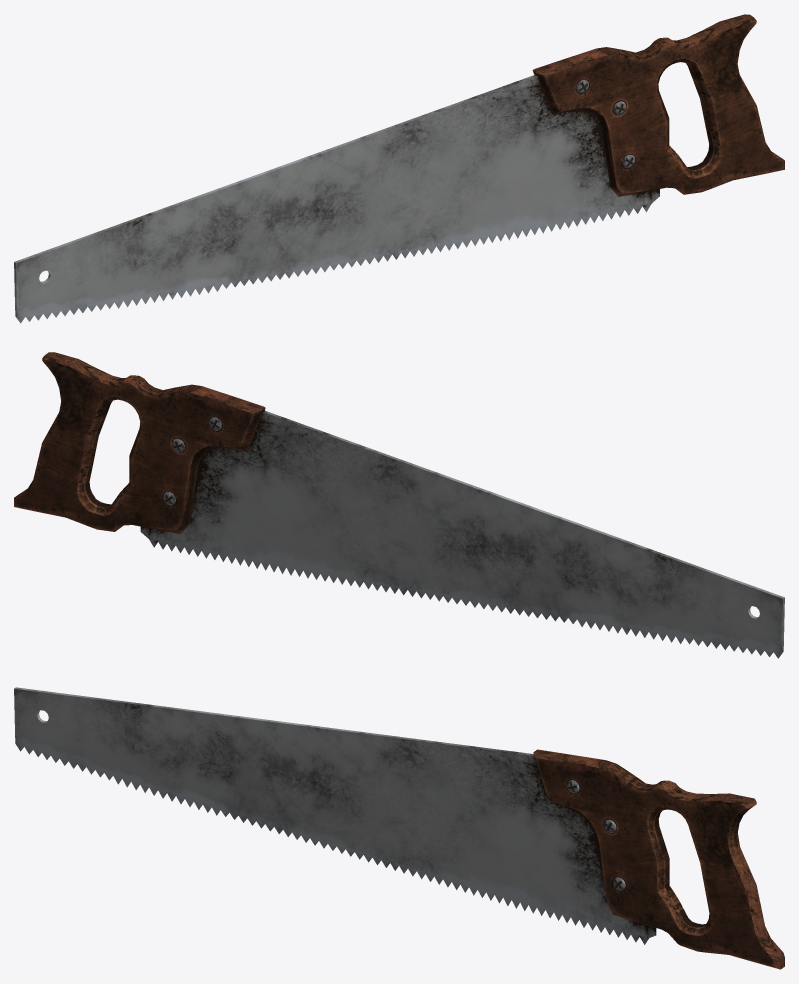
The model's file is saw_tool.glb.
3 renders of one model, top to bottom at view 1: azimuth 30°, elevation 25°; view 2: azimuth 150°, elevation 25°; view 3: azimuth 330°, elevation 25°, orthographic.
Parts seen in each view (by area): view 1: Saw_Saw_0; view 2: Saw_Saw_0; view 3: Saw_Saw_0.
Part boxes in pixels (<box>): Saw_Saw_0: <box>14,14,784,323</box>; Saw_Saw_0: <box>14,352,784,658</box>; Saw_Saw_0: <box>14,687,784,969</box>.
Size of the model in its own units: 1153 by 247 by 32.8.
Materials: 1 (1 with a texture image).
